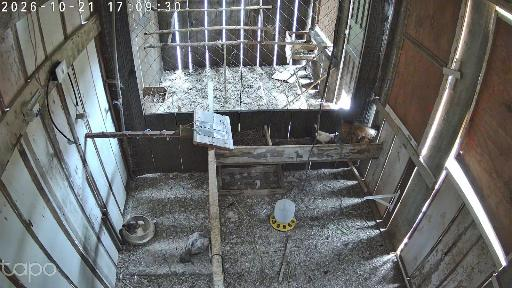galinha: (335, 107, 377, 145), (182, 226, 211, 265), (123, 219, 149, 235)
